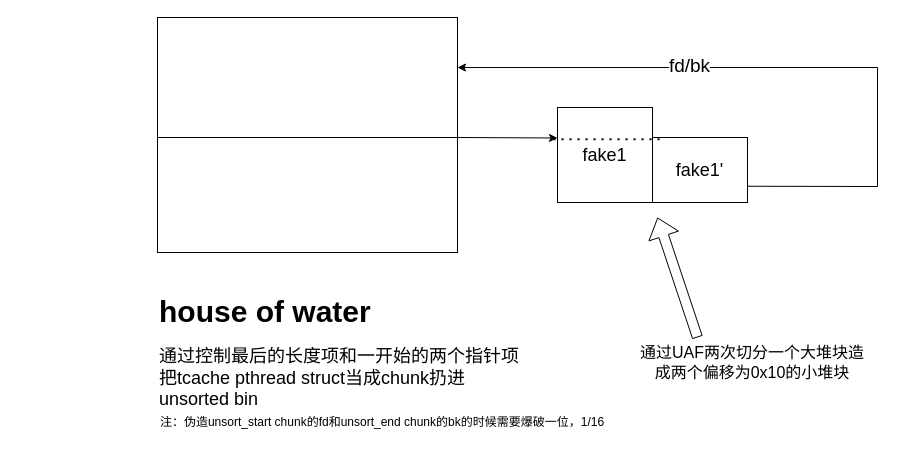
Some shapes in this 903 by 455 pixel diagram are drawn without their labels. The shapes that lost their labels are listed below. From the top down, each one's centre as x and y in pixels, then its label:
the point at 307,77: 长度存储数组
the point at 307,194: 指针存储数组
